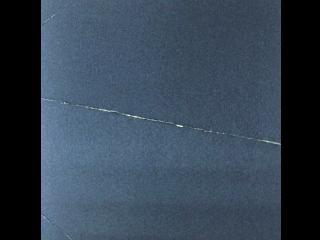crack: (41, 96, 283, 146)
